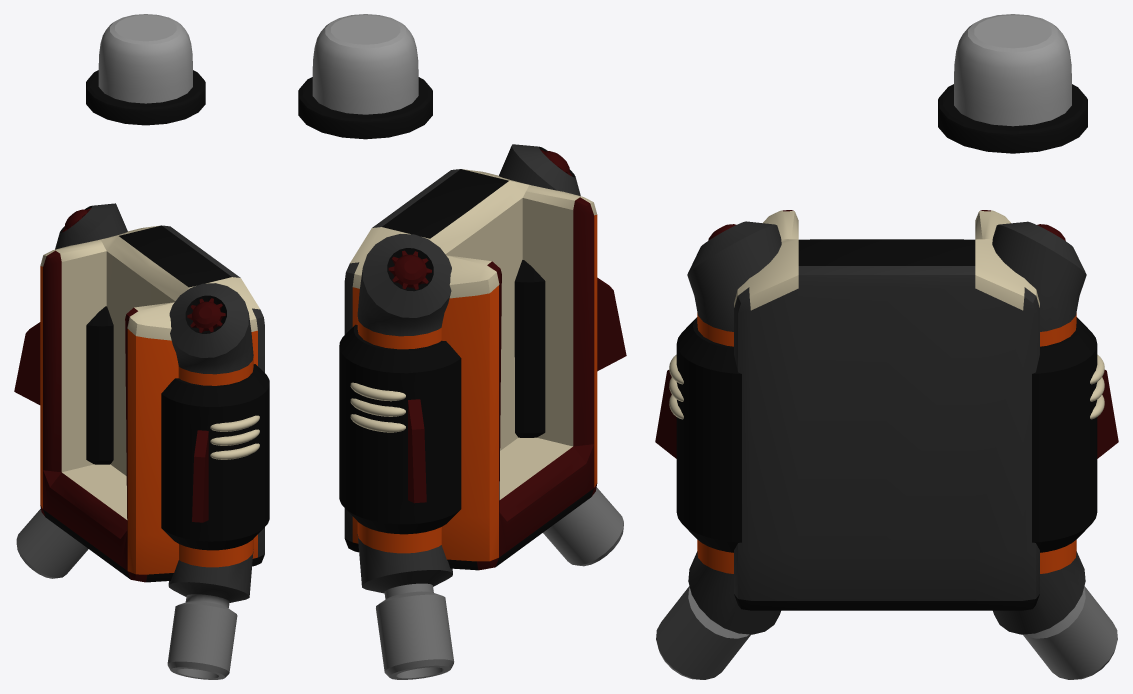
The model's file is JetPack.FBX.
3 views of the same model, side by side, from view 1: azimuth 30°, elevation 25°; view 2: azimuth 150°, elevation 25°; view 3: azimuth 270°, elevation 25° (orthographic). The views are drawn at different scales.
Parts seen in each view (by area): view 1: pTorus8, Box008, Light, Cylinder001; view 2: pTorus8, Box008, Light, Cylinder001; view 3: Box008, pTorus8, Light, Cylinder001.
Part boxes in pixels (x1=…): pTorus8: x1=14, y1=203, x2=269, y2=679; Box008: x1=40, y1=225, x2=264, y2=582; Light: x1=98, y1=14, x2=192, y2=103; Cylinder001: x1=86, y1=70, x2=205, y2=125; pTorus8: x1=339, y1=144, x2=626, y2=679; Box008: x1=344, y1=169, x2=597, y2=570; Light: x1=312, y1=14, x2=418, y2=114; Cylinder001: x1=298, y1=77, x2=432, y2=139; Box008: x1=734, y1=210, x2=1039, y2=610; pTorus8: x1=655, y1=221, x2=1118, y2=679; Light: x1=954, y1=14, x2=1071, y2=126; Cylinder001: x1=938, y1=84, x2=1087, y2=153.
Bounding box in the file's own units: 37.49 × 120 × 73.45.
